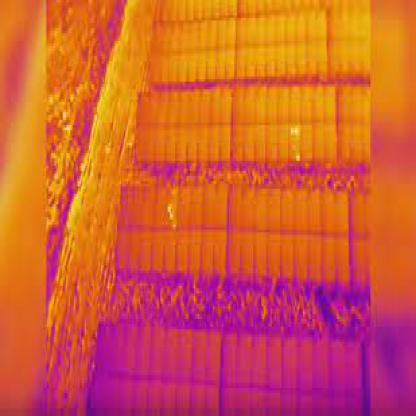Defects: (291, 125, 303, 163), (167, 207, 179, 232)
